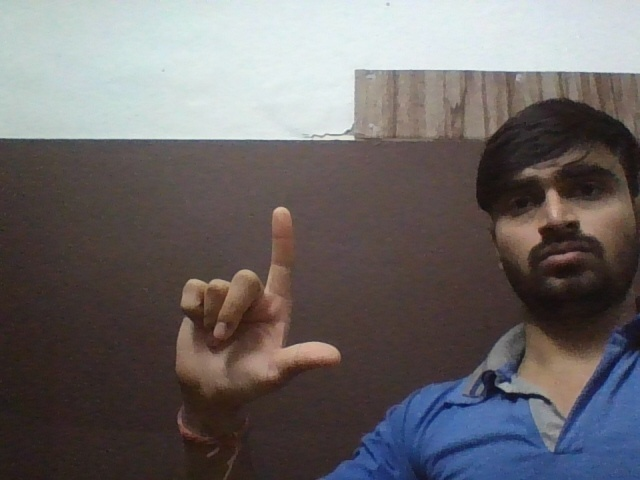L: (167, 200, 352, 410)
